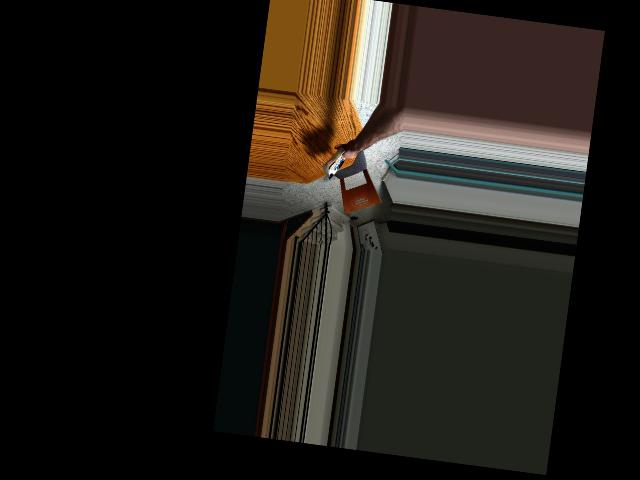cheese: (320, 144, 349, 182)
